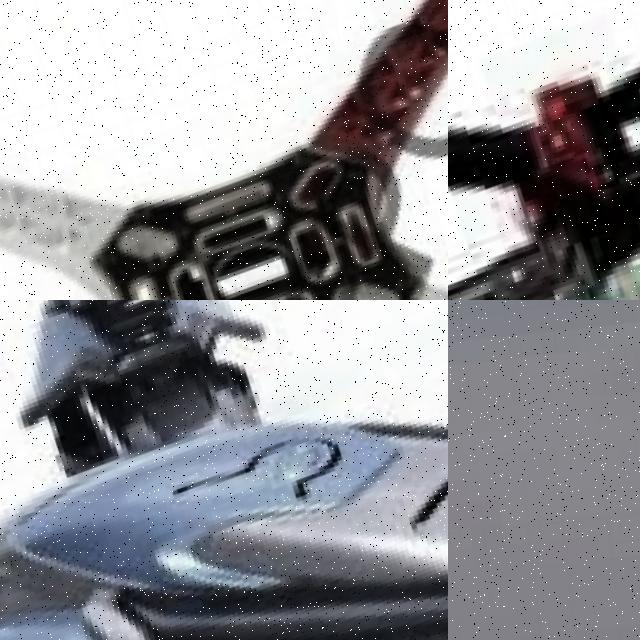drone: (0, 300, 448, 640), (0, 0, 448, 300), (448, 0, 640, 300)
